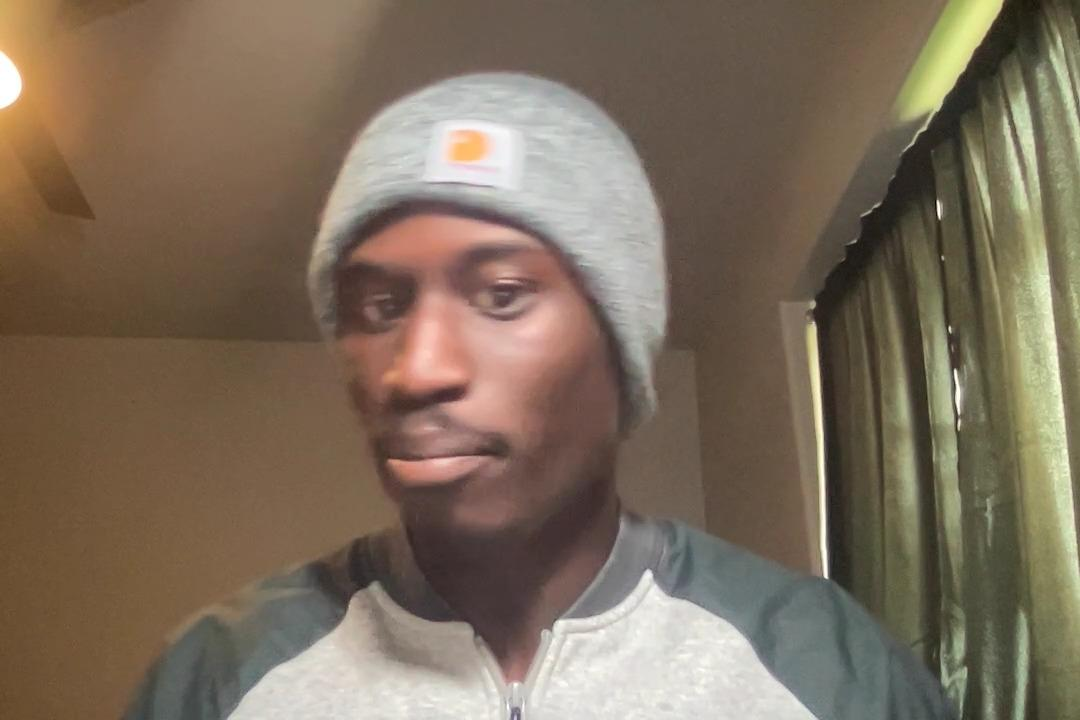face: (299, 50, 673, 553)
